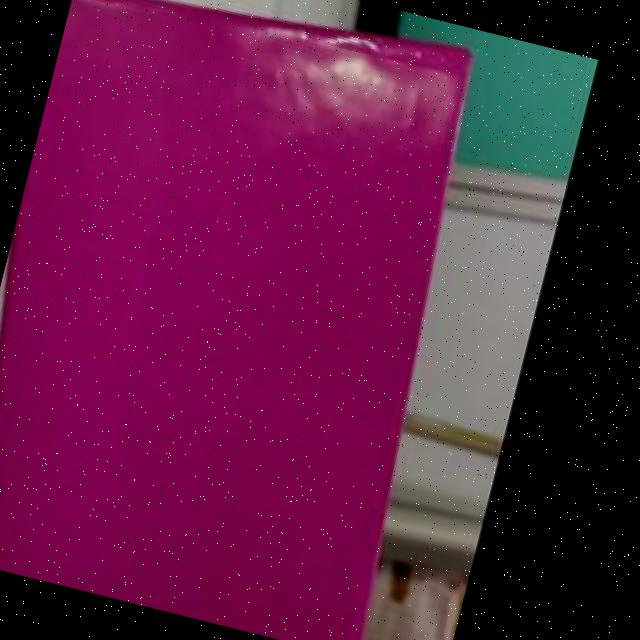xparking: (0, 0, 467, 640)
